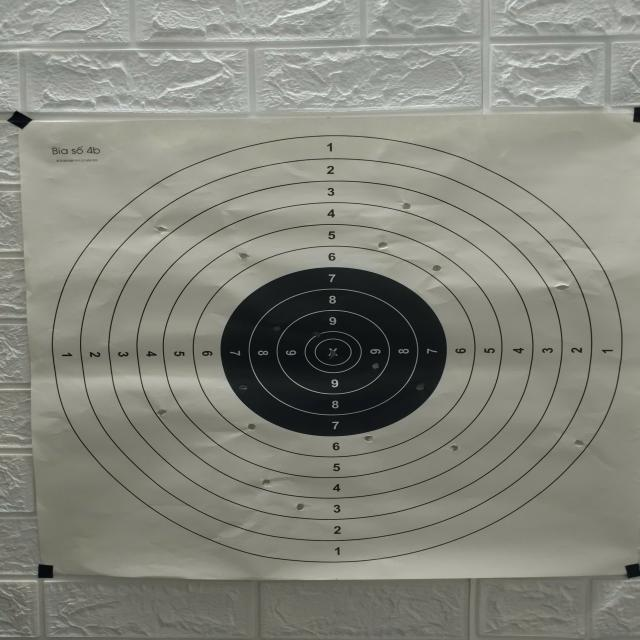bullet: (155, 225, 168, 233), (556, 284, 569, 290), (377, 242, 388, 249), (238, 253, 249, 260), (449, 444, 458, 452), (271, 325, 281, 332), (402, 202, 410, 210), (432, 265, 441, 272), (262, 479, 271, 486), (157, 409, 166, 416), (416, 383, 424, 390), (239, 384, 247, 391), (296, 503, 304, 510), (364, 436, 373, 442), (575, 440, 584, 446), (330, 350, 337, 357), (248, 424, 256, 430), (372, 363, 379, 369), (312, 331, 320, 336)
target: (21, 114, 640, 580)
